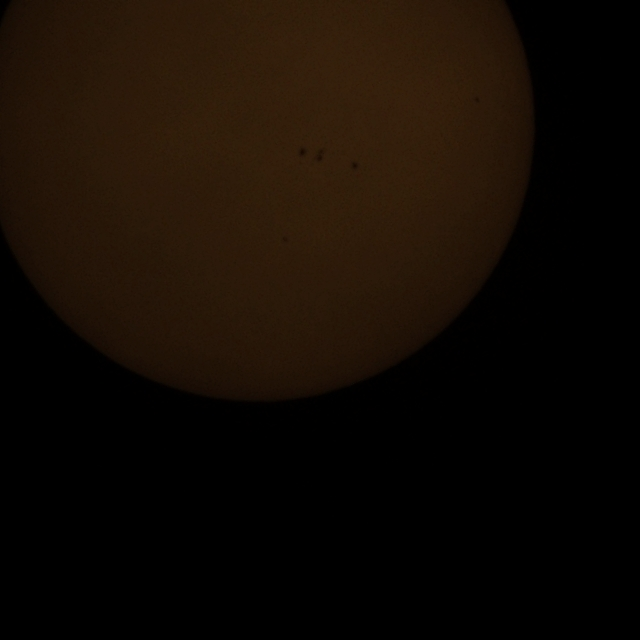sunspot: (340, 146, 370, 183), (297, 135, 327, 165), (275, 225, 296, 250), (466, 90, 490, 106)
